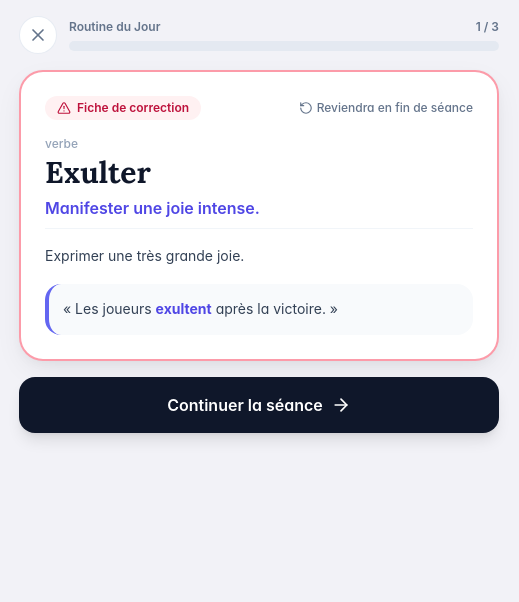
Test: routine transitions › shows the correction and then the next exercise after a wrong answer
Earlier steps of the test are not shown.
expect the text "Fiche de correction" is shown: met, box x1=45 y1=96 x2=201 y2=120
Click the button "Continuer la séance" at [259, 404], box x1=19 y1=376 x2=499 y2=432
Wait 3000 ms
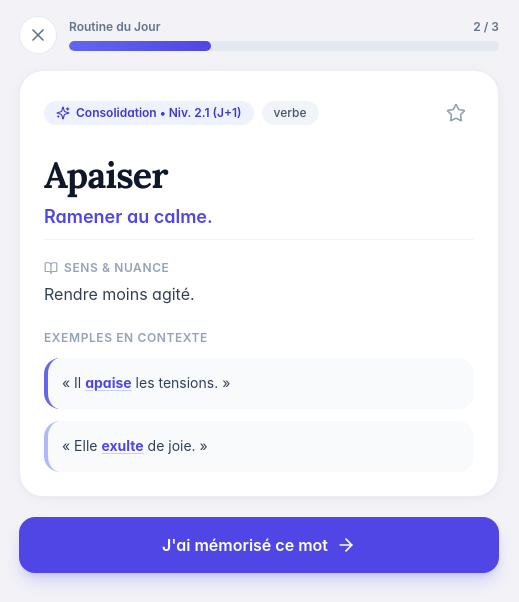
expect the heading "Apaiser" is shown: met, box x1=44 y1=152 x2=168 y2=198
